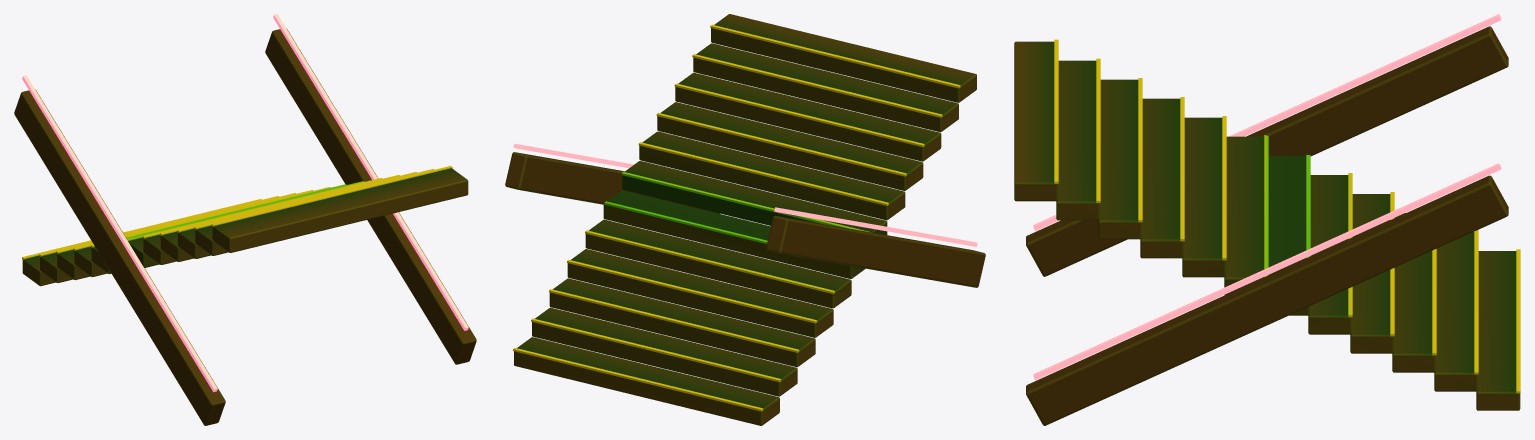
Rendered from stairs.glb.
3 renders of one model, left to right at view 1: azimuth 30°, elevation 25°; view 2: azimuth 150°, elevation 25°; view 3: azimuth 270°, elevation 25°, orthographic. The views are drawn at different scales.
Parts seen in each view (by area): view 1: stairs; view 2: stairs; view 3: stairs.
Part boxes in pixels (x1,y1,x2,y2): stairs: [14, 14, 476, 425]; stairs: [505, 14, 985, 425]; stairs: [1014, 14, 1520, 425].
Size of the model in its own units: 4.45 by 3.39 by 6.02.
